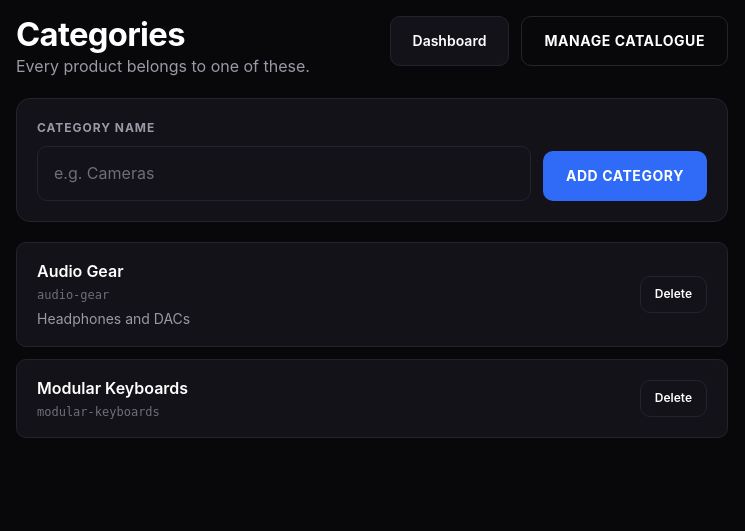
creating a category › a duplicate name shows the message the server sent
This screenshot has width=745, height=531.
Expected: the text "Audio Gear" is shown, left=37, top=261, right=124, bottom=281
Type "Audio Gear" into the field labelled "Category name" at (284,174), box left=37, top=146, right=531, bottom=201
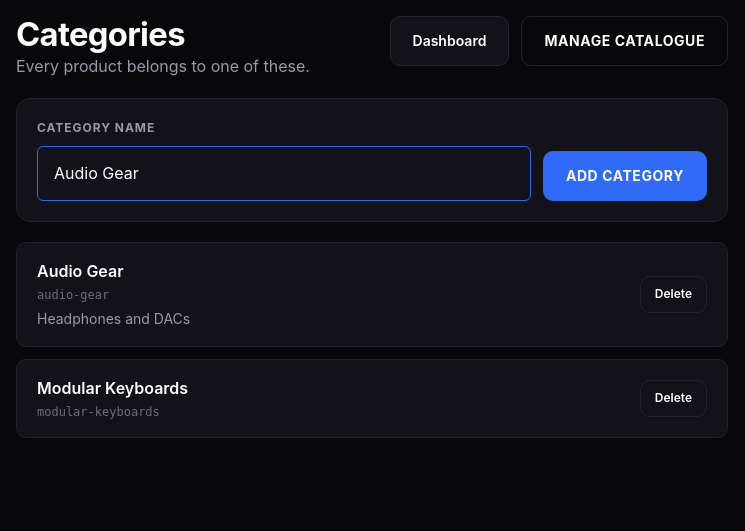
Click the button "Add category" at (625,176), box left=543, top=151, right=707, bottom=201
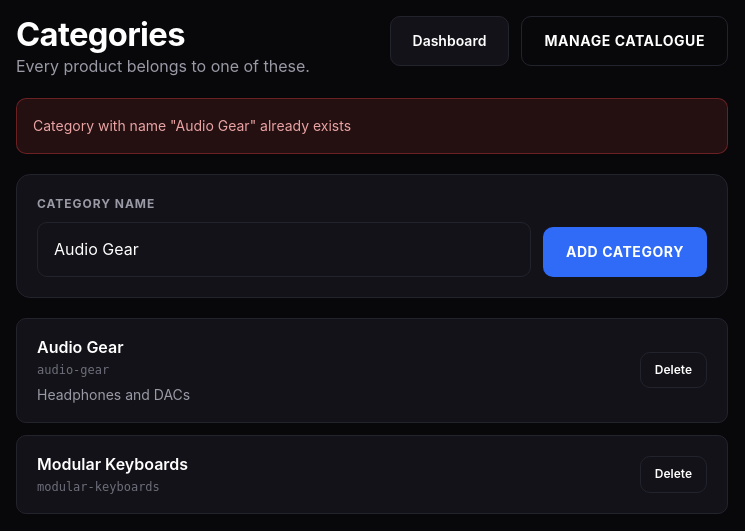
Now the message shows "already exists", box left=33, top=118, right=351, bottom=134
